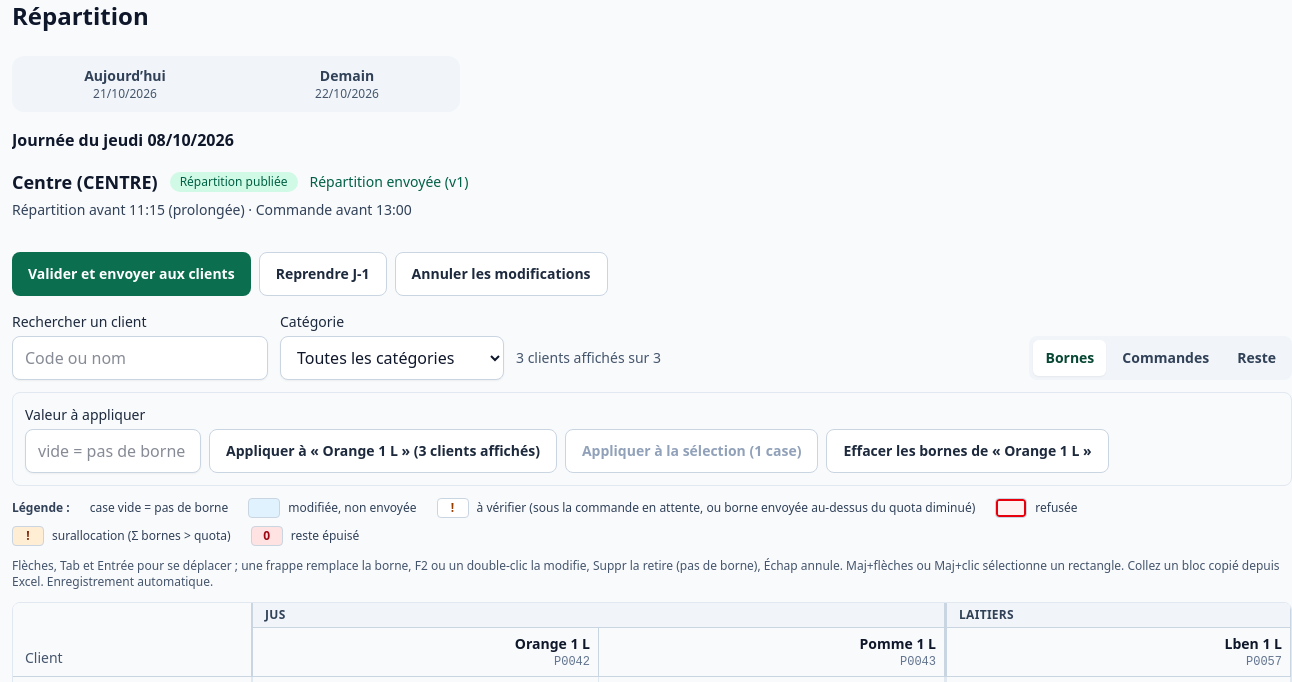
Test: distribution grid — display › filters the rows by search and category, ΣB still covering every client
Check: the text "3 clients affichés sur 3" is shown, box x1=516 y1=348 x2=661 y2=367
Type "client b" into the search field labelled "Rechercher un client".
click(140, 358); type("client b")  # box x1=12 y1=336 x2=268 y2=380
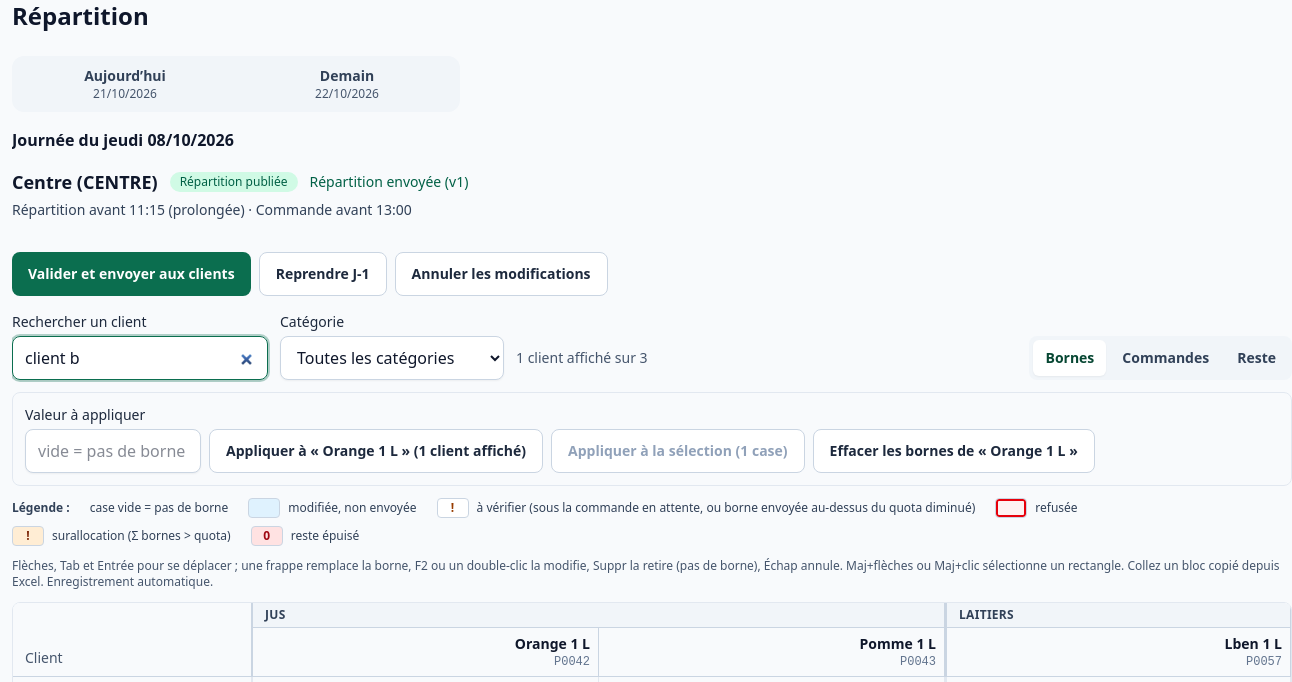
Check: the text "1 client affiché sur 3" is shown, box x1=516 y1=348 x2=648 y2=367
Clear the search field labelled "Rechercher un client" at (140, 358), box x1=12 y1=336 x2=268 y2=380
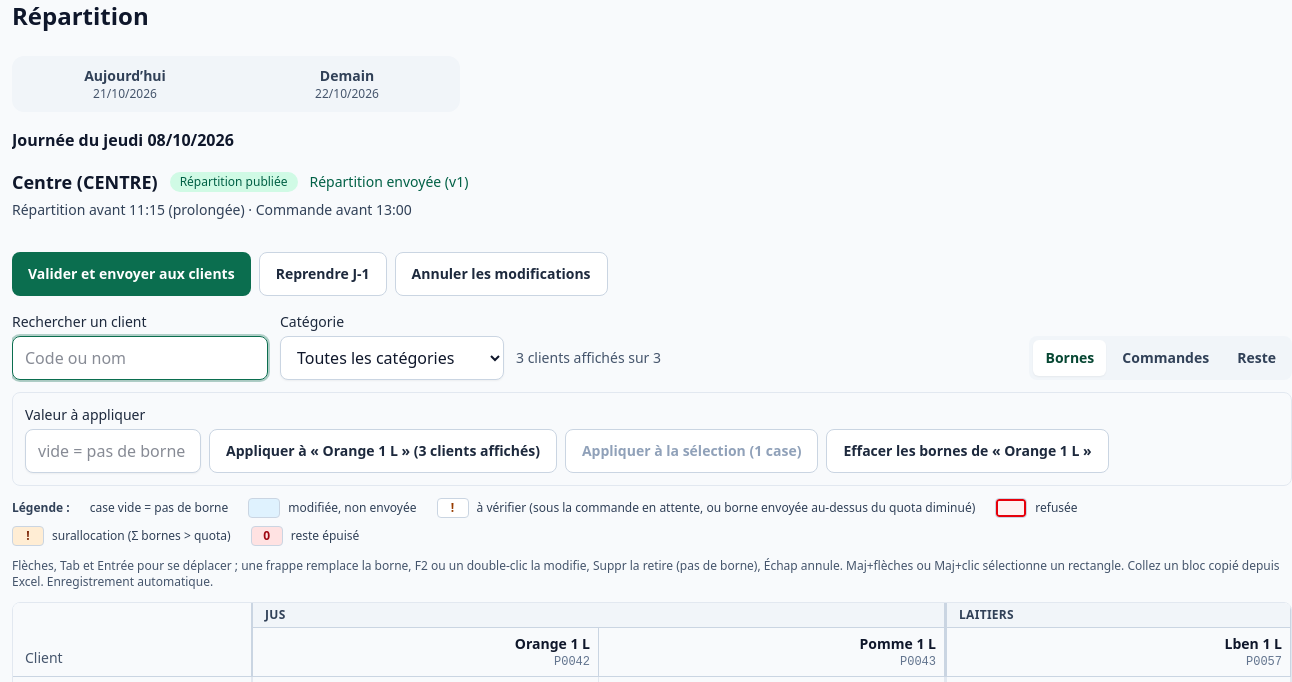
Select "Grossiste" in the dropdown labelled "Catégorie" at (392, 358), box x1=280 y1=336 x2=504 y2=380
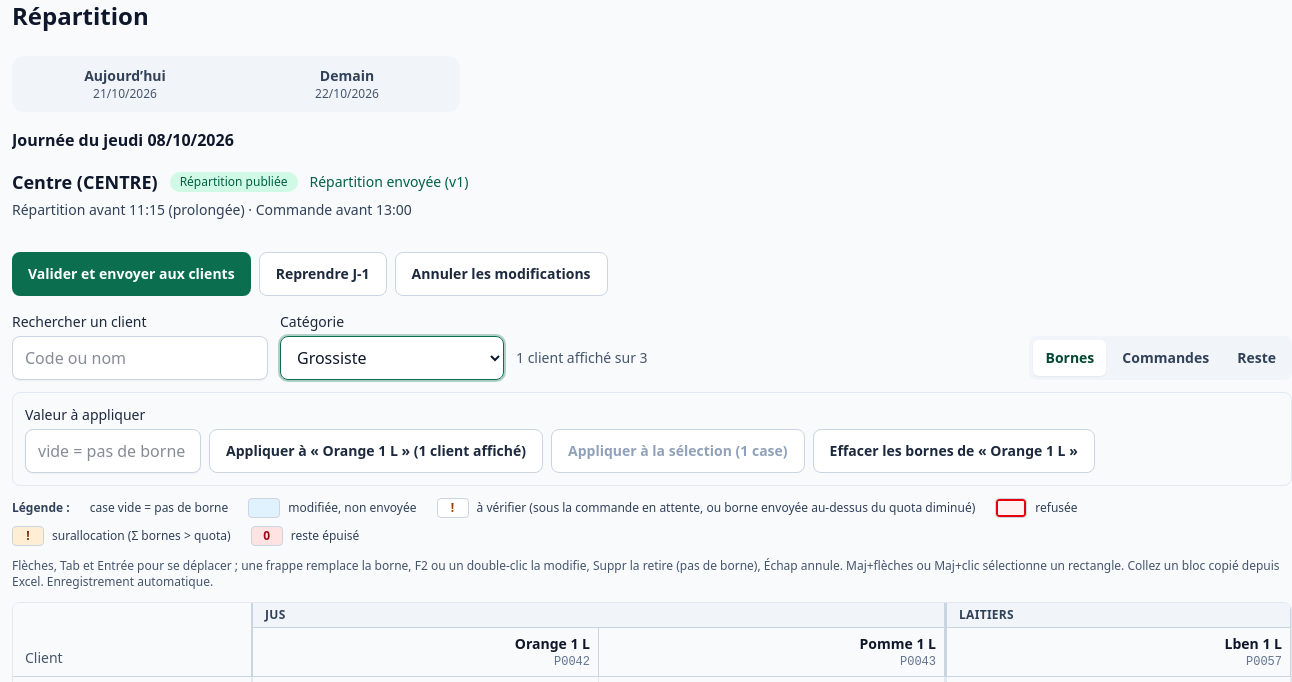
Check: the text "1 client affiché sur 3" is shown, box x1=516 y1=348 x2=648 y2=367
Type "zzz" into the search field labelled "Rechercher un client".
click(140, 358); type("zzz")  # box x1=12 y1=336 x2=268 y2=380
(page scrolled)
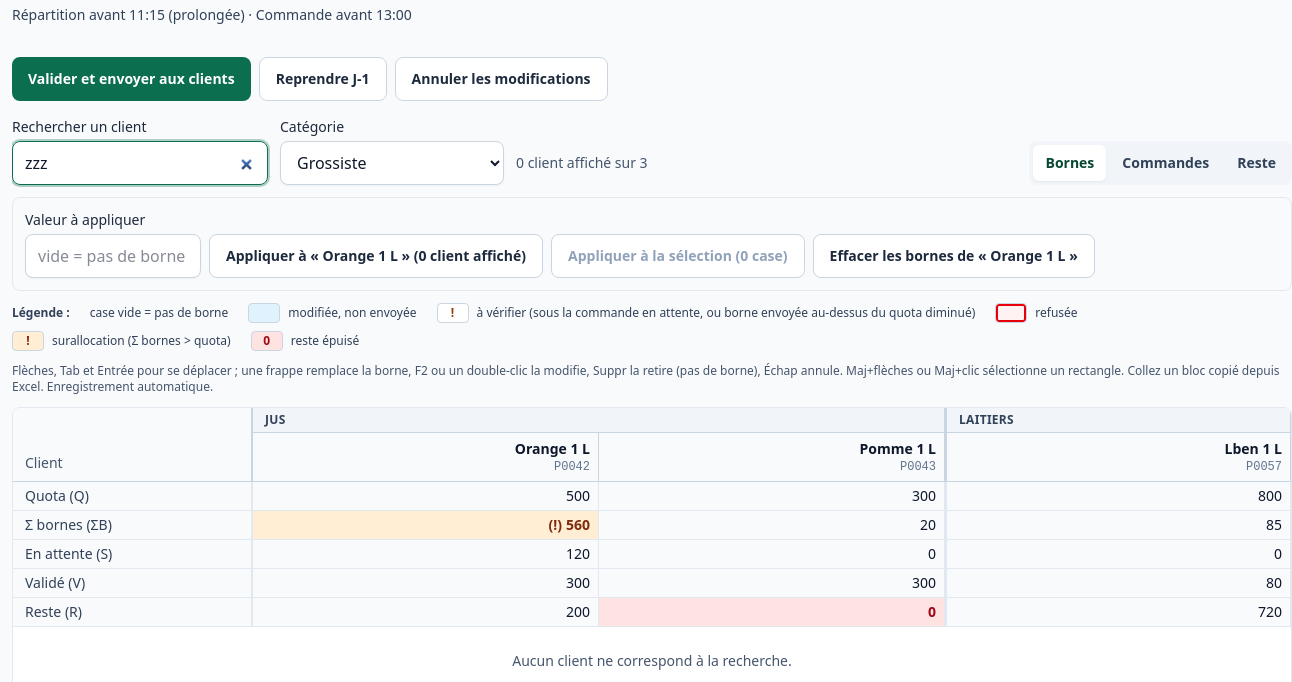
Check: the text "Aucun client ne correspond à la recherche." is shown, box x1=512 y1=651 x2=792 y2=670
